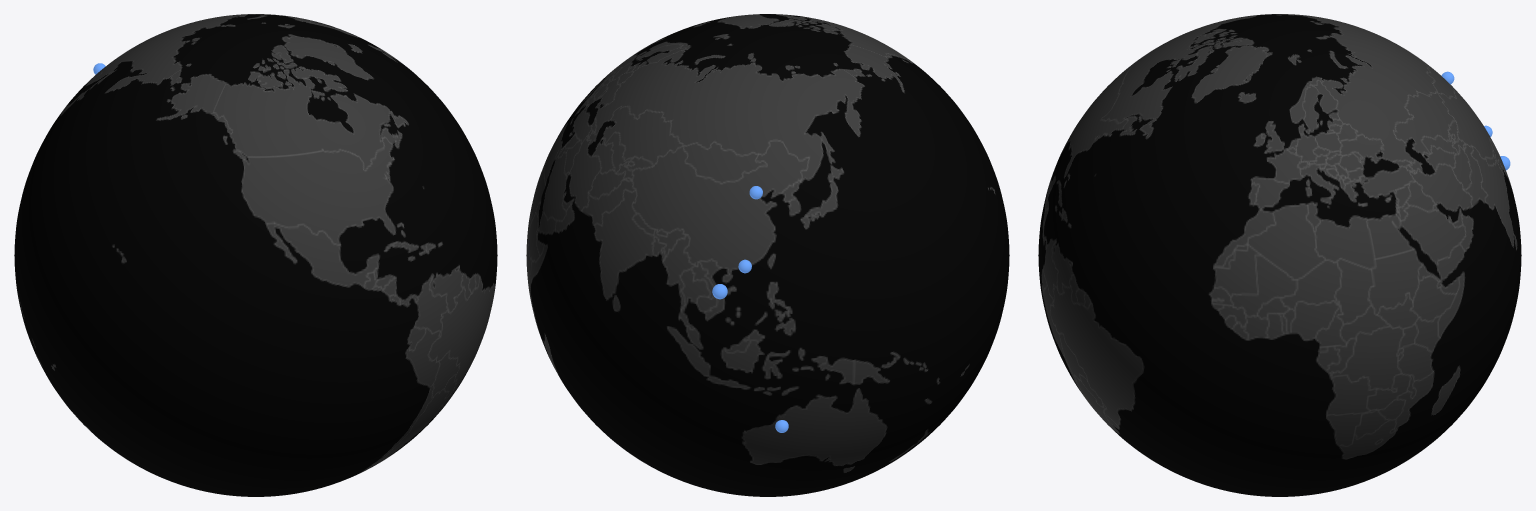
File: global.glb
3 views of the same model, side by side, from view 1: azimuth 30°, elevation 25°; view 2: azimuth 150°, elevation 25°; view 3: azimuth 270°, elevation 25° (orthographic).
Parts seen in each view (by area): view 1: SolidMap; view 2: SolidMap; view 3: SolidMap.
Boxes of the visible parts, x1,y1,x2,y2 form: SolidMap: (14, 14, 497, 496); SolidMap: (526, 14, 1009, 496); SolidMap: (1038, 14, 1521, 496).
Bounding box in the file's own units: 2 × 2 × 2.
5 materials, 1 textured.
